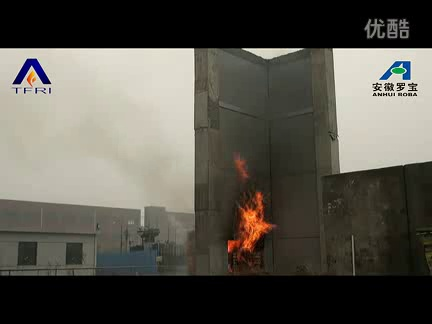fire: (226, 156, 276, 268)
